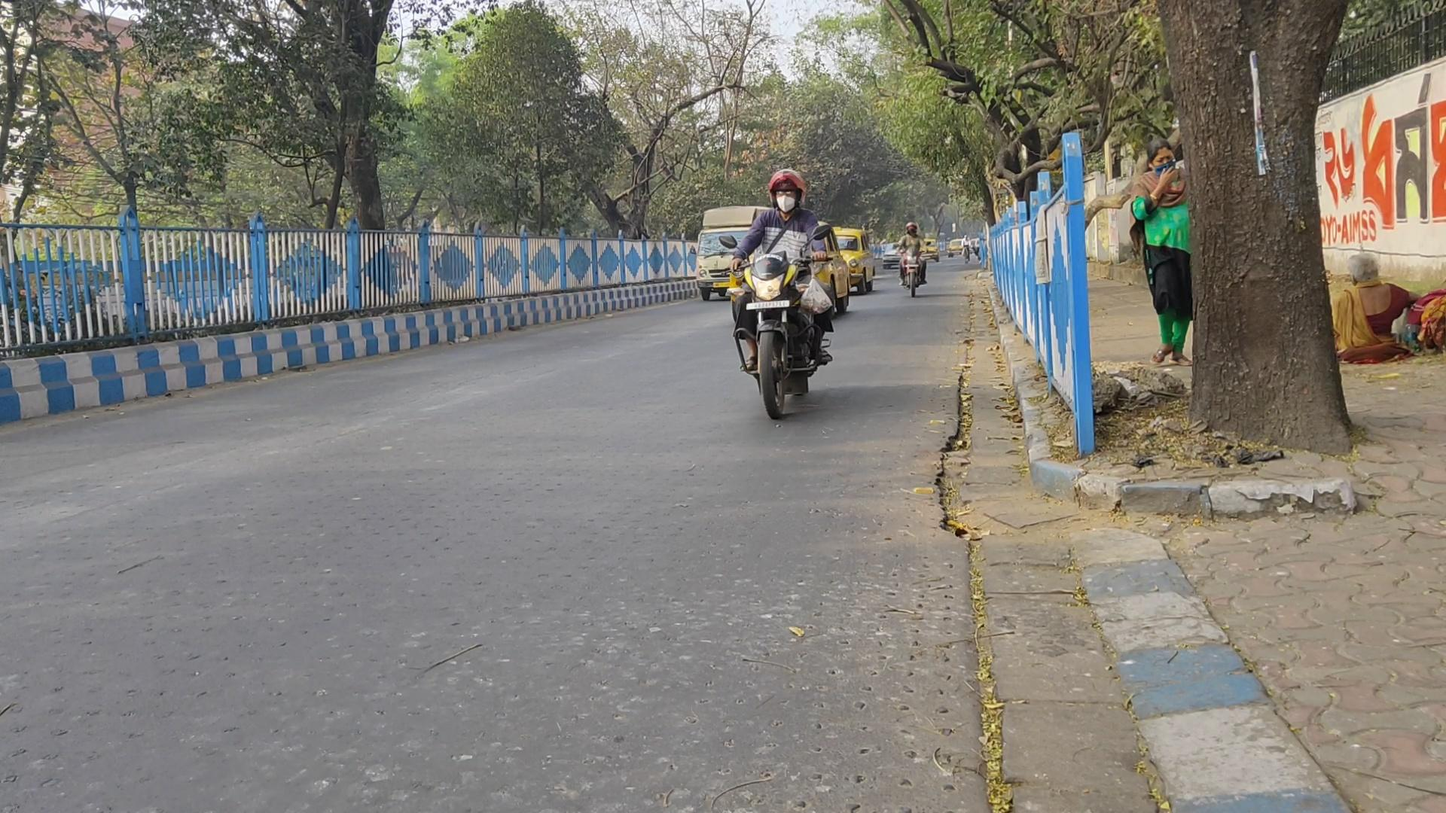bike: (728, 169, 836, 420), (898, 222, 926, 295), (961, 235, 972, 263)
car: (833, 226, 878, 295), (882, 242, 903, 270), (920, 238, 940, 263), (947, 239, 963, 258)
van: (695, 206, 775, 302)
